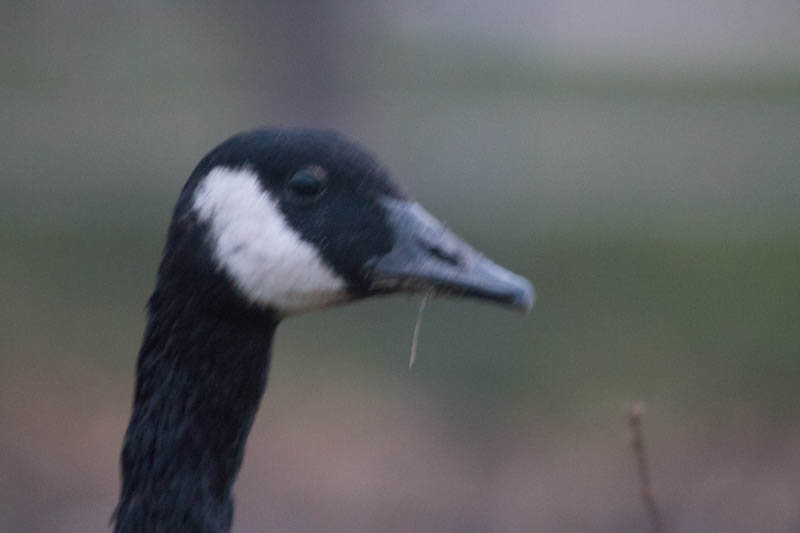goose-head: (163, 127, 537, 323)
